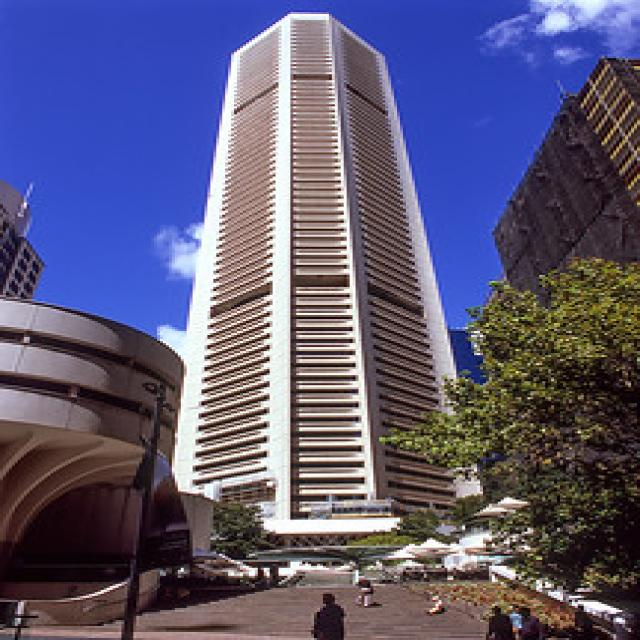building: (167, 10, 493, 556)
